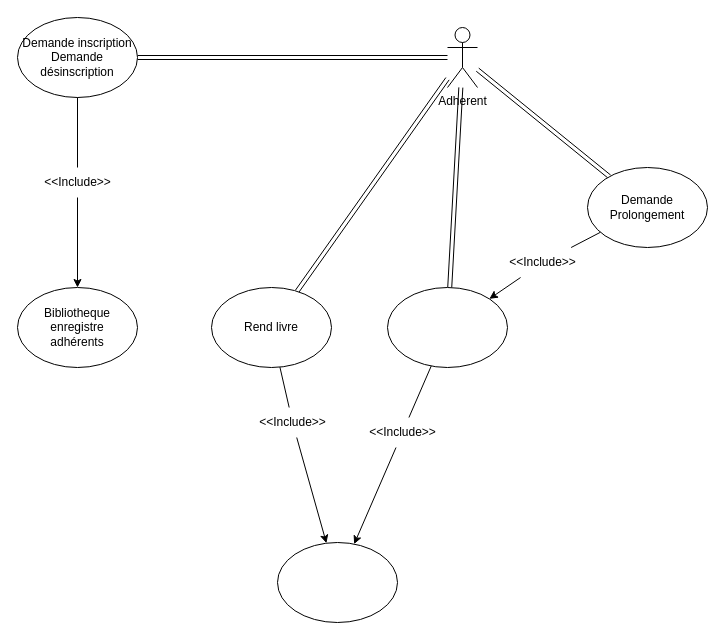
The diagram is 725 pixels wide and 640 high, and some of its shapes have lost their labels. Here are the shapes that lost their labels. From the top down, the box of each, then its label:
(386, 286, 508, 368): Empreinte livres
(276, 542, 398, 622): Bibliothèque possède documents
